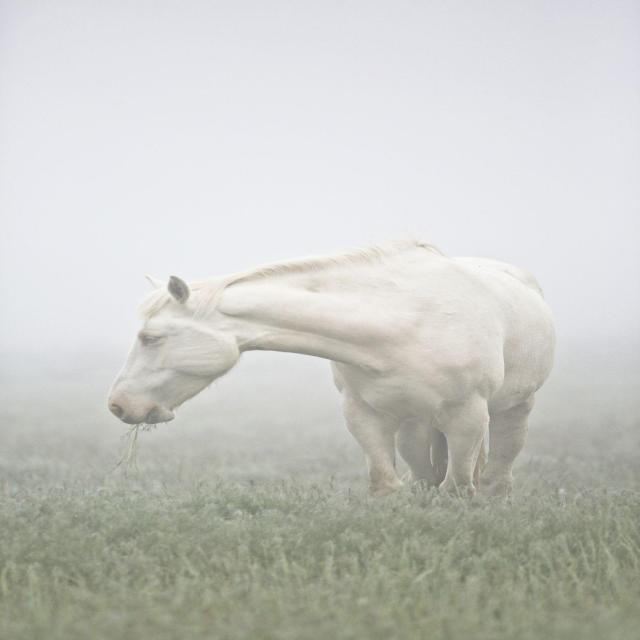horse: (106, 237, 556, 502)
